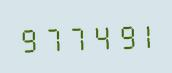four: (87, 19, 109, 52)
nine: (17, 22, 39, 54), (110, 19, 132, 51)
one: (133, 18, 155, 50)
seven: (40, 21, 62, 53), (64, 20, 86, 52)
